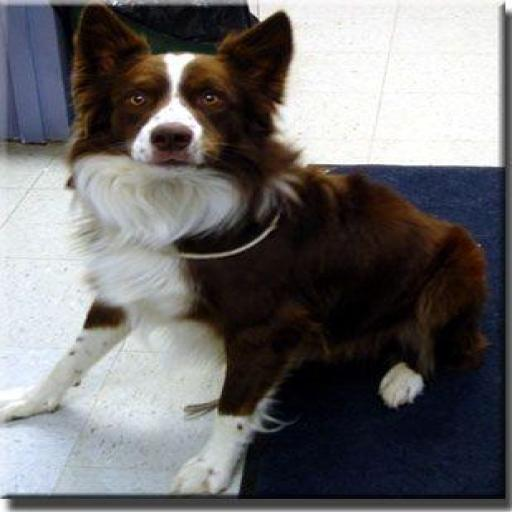dog_face: (59, 2, 304, 180)
